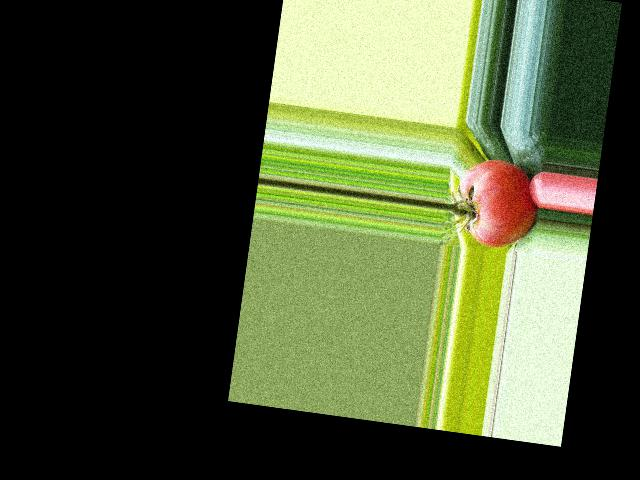tomato: (451, 155, 543, 252)
